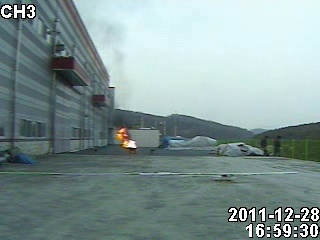fire: (115, 126, 139, 150)
